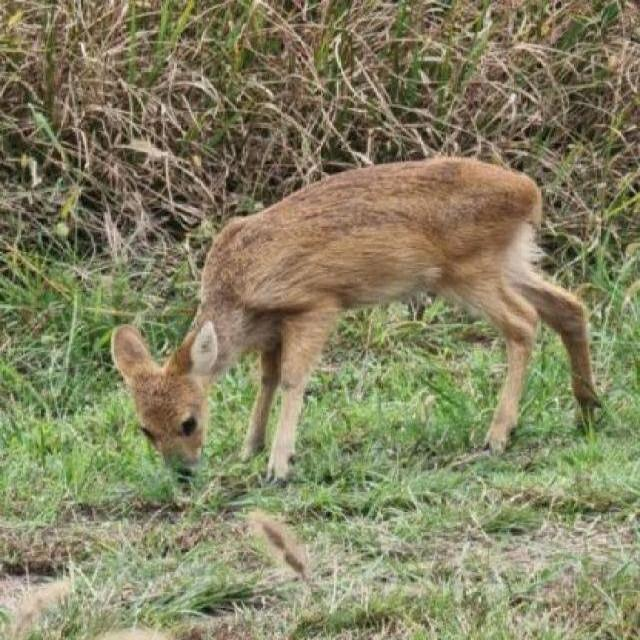deer: (60, 139, 626, 550)
